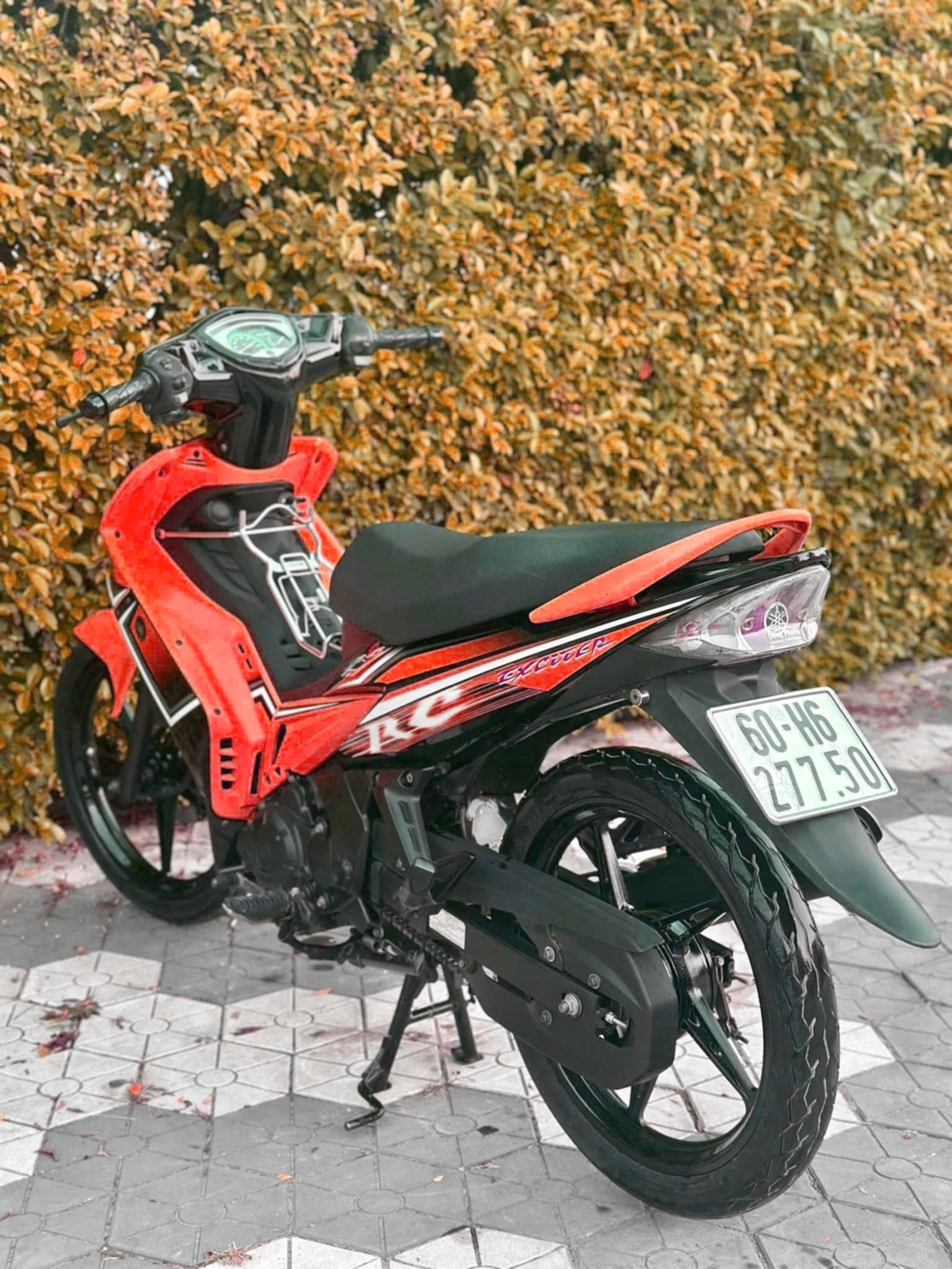Bien-so: (666, 712, 863, 862)
